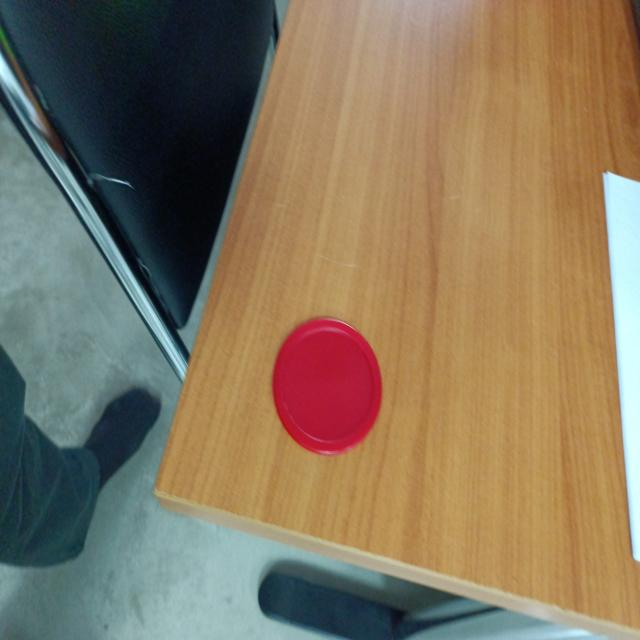chip: (270, 313, 385, 458)
